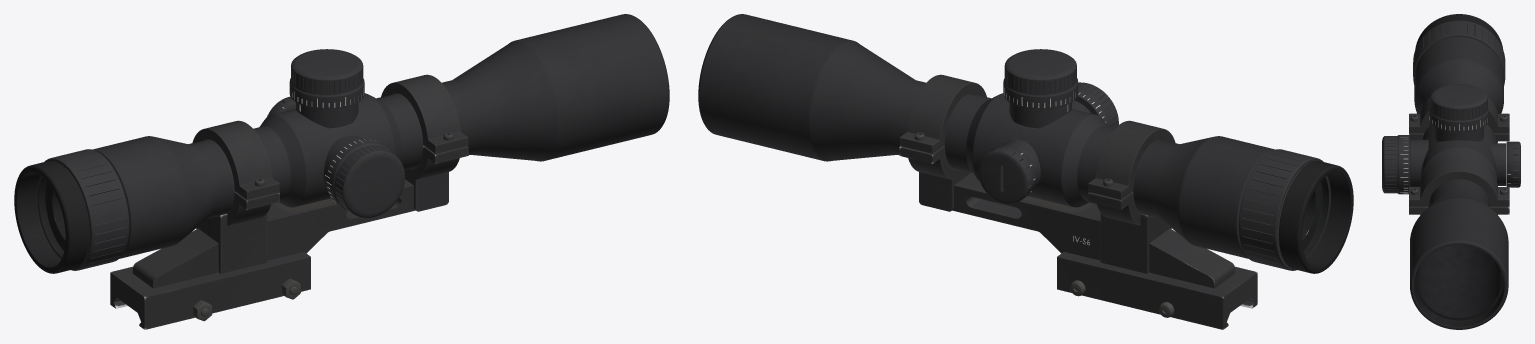
Rendered from SM_IVS6_Scope.fbx.
3 views of the same model, side by side, from view 1: azimuth 30°, elevation 25°; view 2: azimuth 150°, elevation 25°; view 3: azimuth 270°, elevation 25° (orthographic). The views are drawn at different scales.
Visible parts, largest first — view 1: SM_IVS6_Scope; view 2: SM_IVS6_Scope; view 3: SM_IVS6_Scope, IVS6_Glass.
Part boxes in pixels (x1=…): SM_IVS6_Scope: x1=14, y1=14, x2=669, y2=329; SM_IVS6_Scope: x1=698, y1=14, x2=1353, y2=329; SM_IVS6_Scope: x1=1382, y1=14, x2=1520, y2=329; IVS6_Glass: x1=1419, y1=245, x2=1499, y2=316.
Size of the model in its own units: 27 by 8.95 by 6.8.
4 materials, 2 textured.
